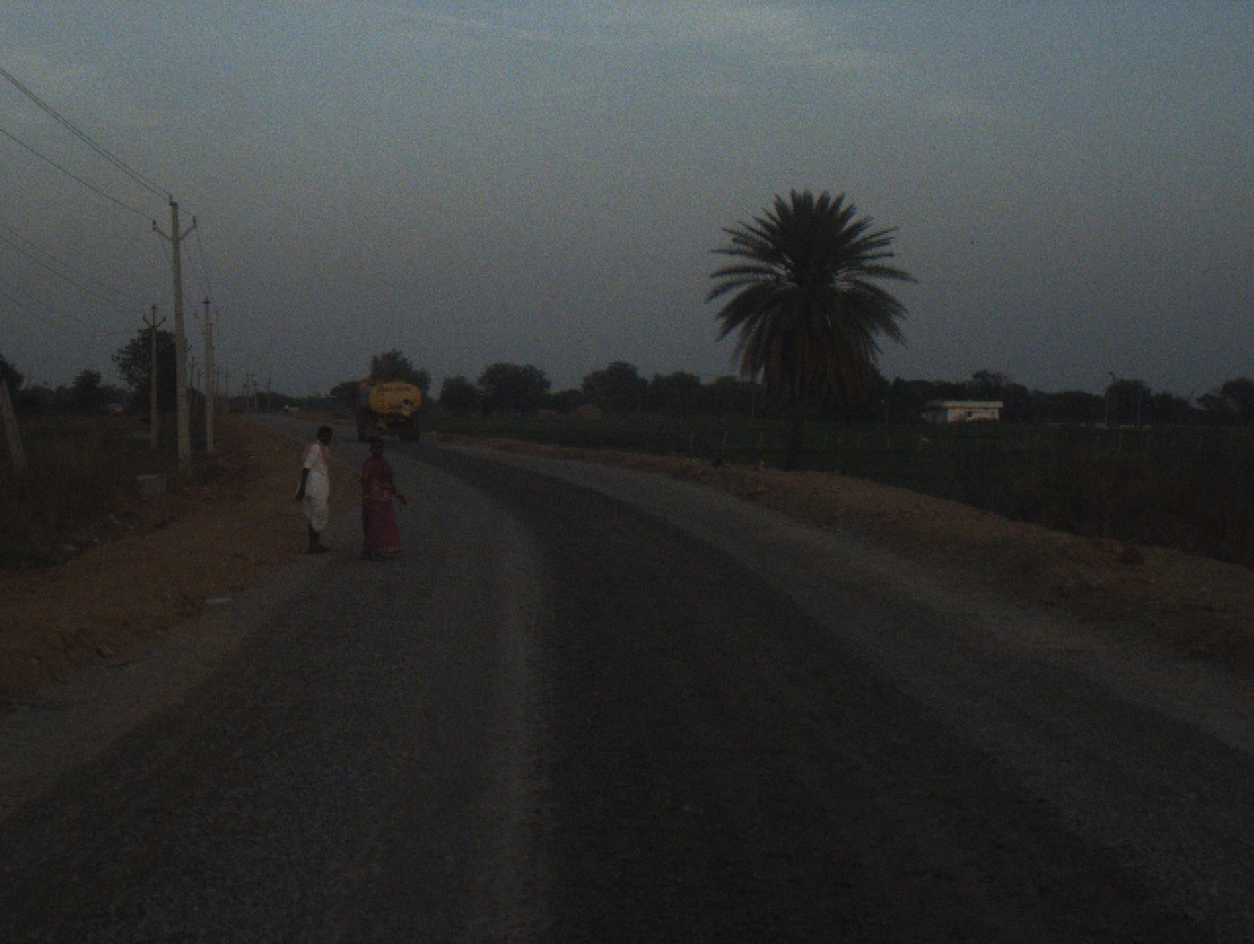person: (293, 420, 340, 554), (360, 438, 410, 558)
truck: (347, 372, 424, 444)
